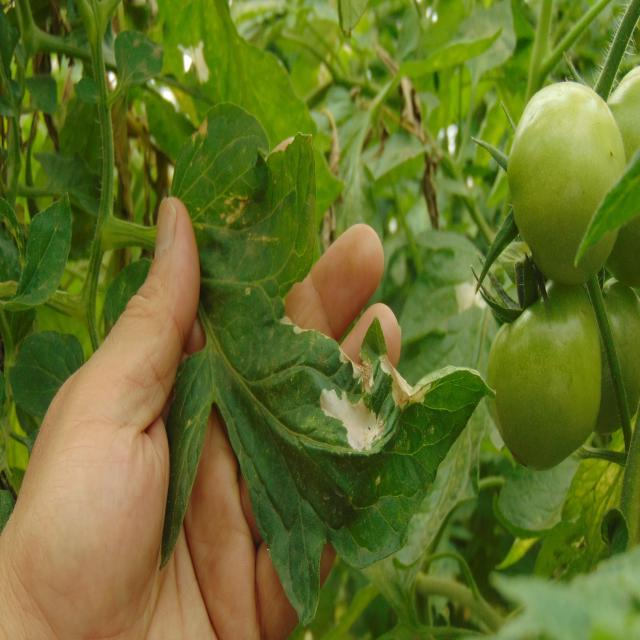Tuta absoluta: (312, 373, 391, 457)
